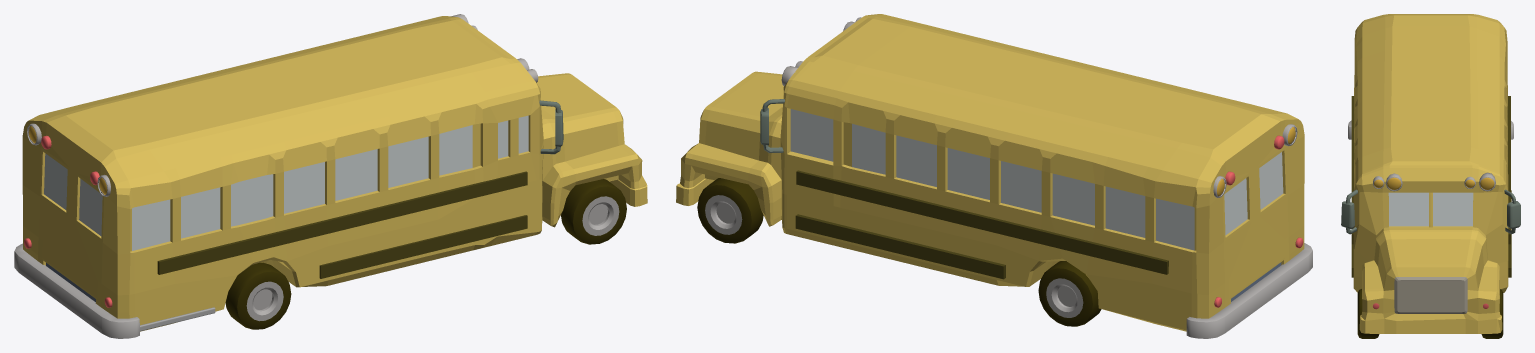
The model's file is bus.fbx.
3 renders of one model, left to right at view 1: azimuth 30°, elevation 25°; view 2: azimuth 150°, elevation 25°; view 3: azimuth 270°, elevation 25°, orthographic. The views are drawn at different scales.
Visible parts, largest first — view 1: polySurface216, polySurface186, pCube1, polySurface202, polySurface70, polySurface211, polySurface26, polySurface30; view 2: polySurface216, polySurface186, pCube1, polySurface202, polySurface70, polySurface211, polySurface26; view 3: polySurface216, polySurface186, polySurface201, pCube1, polySurface26, polySurface70, polySurface214, polySurface211.
Boxes of the visible parts, x1=… form: polySurface216: x1=22, y1=16, x2=647, y2=331; polySurface186: x1=44, y1=115, x2=528, y2=250; pCube1: x1=157, y1=171, x2=527, y2=278; polySurface202: x1=14, y1=196, x2=619, y2=338; polySurface70: x1=225, y1=179, x2=626, y2=329; polySurface211: x1=27, y1=14, x2=538, y2=196; polySurface26: x1=539, y1=100, x2=563, y2=154; polySurface30: x1=140, y1=307, x2=215, y2=331; polySurface216: x1=676, y1=14, x2=1304, y2=331; polySurface186: x1=790, y1=109, x2=1283, y2=250; pCube1: x1=795, y1=170, x2=1168, y2=279; polySurface202: x1=705, y1=195, x2=1312, y2=338; polySurface70: x1=697, y1=178, x2=1101, y2=326; polySurface211: x1=781, y1=17, x2=1297, y2=197; polySurface26: x1=760, y1=99, x2=784, y2=153; polySurface216: x1=1353, y1=14, x2=1508, y2=333; polySurface186: x1=1388, y1=192, x2=1473, y2=226; polySurface201: x1=1394, y1=277, x2=1467, y2=313; pCube1: x1=1351, y1=96, x2=1511, y2=277; polySurface26: x1=1341, y1=189, x2=1520, y2=234; polySurface70: x1=1357, y1=289, x2=1503, y2=338; polySurface214: x1=1374, y1=177, x2=1494, y2=189; polySurface211: x1=1373, y1=172, x2=1495, y2=191.
Bounding box in the file's own units: 79.03 × 29.35 × 26.54.
